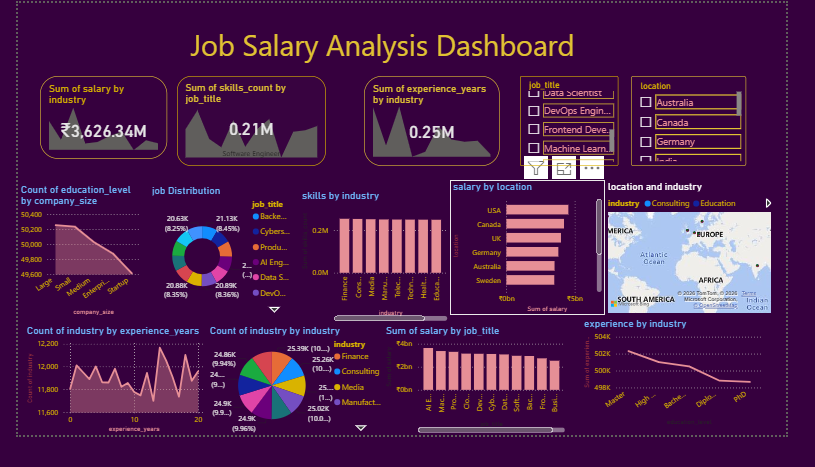

Layout of this report page (visuals, bound fields, positions):
{"tool":"powerbi","page":{"name":"Page 1","canvas":[1280,720],"ordinal":0},"visuals":[{"type":"stackedAreaChart","fields":{"Y":["CountNonNull(job_salary_prediction_dataset.education_level)"],"Category":["job_salary_prediction_dataset.company_size"]},"box":[0,299.5,207.4,224.6],"z":0},{"type":"areaChart","fields":{"Category":["job_salary_prediction_dataset.experience_years"],"Y":["CountNonNull(job_salary_prediction_dataset.industry)"]},"box":[10.1,534.2,305.3,185.8],"z":1000},{"type":"pieChart","fields":{"Category":["job_salary_prediction_dataset.industry"],"Y":["CountNonNull(job_salary_prediction_dataset.industry)"]},"box":[315.4,534.2,305.3,185.8],"z":2000},{"type":"lineChart","title":"experience by industry","fields":{"Category":["job_salary_prediction_dataset.education_level"],"Y":["Sum(job_salary_prediction_dataset.experience_years)"]},"box":[938.9,524.2,306.7,185.8],"z":3000},{"type":"donutChart","title":" job Distribution","fields":{"Category":["job_salary_prediction_dataset.job_title"],"Y":["CountNonNull(job_salary_prediction_dataset.job_title)"]},"box":[218.9,301,249.1,221.8],"z":4000},{"type":"columnChart","fields":{"Y":["Sum(job_salary_prediction_dataset.salary)"],"Category":["job_salary_prediction_dataset.job_title"]},"box":[607.7,534.2,308.2,185.8],"z":5000},{"type":"lineStackedColumnComboChart","title":"skills by industry","fields":{"Y":["Sum(job_salary_prediction_dataset.skills_count)"],"Category":["job_salary_prediction_dataset.industry"]},"box":[468,309.6,252,224.6],"z":6000},{"type":"barChart","title":" salary by location","fields":{"Category":["job_salary_prediction_dataset.location"],"Y":["Sum(job_salary_prediction_dataset.salary)"]},"box":[720,295.2,257.8,224.6],"z":7000},{"type":"textbox","box":[0,31.7,1215.4,76.3],"z":8000},{"type":"kpi","fields":{"Indicator":["Sum(job_salary_prediction_dataset.salary)"],"TrendLine":["job_salary_prediction_dataset.industry"]},"box":[37.4,121,211.7,138.2],"z":9000},{"type":"kpi","fields":{"TrendLine":["job_salary_prediction_dataset.job_title"],"Indicator":["Sum(job_salary_prediction_dataset.skills_count)"]},"box":[265,121,247.7,149.8],"z":10000},{"type":"kpi","fields":{"Indicator":["Sum(job_salary_prediction_dataset.experience_years)"],"TrendLine":["job_salary_prediction_dataset.industry"]},"box":[577.4,121,226.1,149.8],"z":11000},{"type":"slicer","fields":{"Values":["job_salary_prediction_dataset.job_title"]},"box":[836.6,121,164.2,149.8],"z":12000},{"type":"slicer","fields":{"Values":["job_salary_prediction_dataset.location"]},"box":[1022.4,121,191.5,149.8],"z":13000},{"type":"map","fields":{"Category":["job_salary_prediction_dataset.location"],"Series":["job_salary_prediction_dataset.industry"]},"box":[977.8,295.2,282.2,226.1],"z":13001}]}

Visuals, with their boxes in screenshot pixels (x1, y1, x2, y2), scaled from the page's 1280x720 canvas onto the 815x467 screenshot:
stackedAreaChart - CountNonNull(job_salary_prediction_dataset.education_level) x job_salary_prediction_dataset.company_size: box(0, 194, 132, 340)
areaChart - job_salary_prediction_dataset.experience_years x CountNonNull(job_salary_prediction_dataset.industry): box(6, 346, 201, 466)
pieChart - job_salary_prediction_dataset.industry x CountNonNull(job_salary_prediction_dataset.industry): box(201, 346, 395, 466)
"experience by industry" lineChart: box(598, 340, 793, 461)
" job Distribution" donutChart: box(139, 195, 298, 339)
columnChart - Sum(job_salary_prediction_dataset.salary) x job_salary_prediction_dataset.job_title: box(387, 346, 583, 466)
"skills by industry" lineStackedColumnComboChart: box(298, 201, 458, 346)
" salary by location" barChart: box(458, 191, 623, 337)
textbox: box(0, 21, 774, 70)
kpi - Sum(job_salary_prediction_dataset.salary) x job_salary_prediction_dataset.industry: box(24, 78, 159, 168)
kpi - job_salary_prediction_dataset.job_title x Sum(job_salary_prediction_dataset.skills_count): box(169, 78, 326, 176)
kpi - Sum(job_salary_prediction_dataset.experience_years) x job_salary_prediction_dataset.industry: box(368, 78, 512, 176)
slicer - job_salary_prediction_dataset.job_title: box(533, 78, 637, 176)
slicer - job_salary_prediction_dataset.location: box(651, 78, 773, 176)
map - job_salary_prediction_dataset.location x job_salary_prediction_dataset.industry: box(623, 191, 802, 338)
